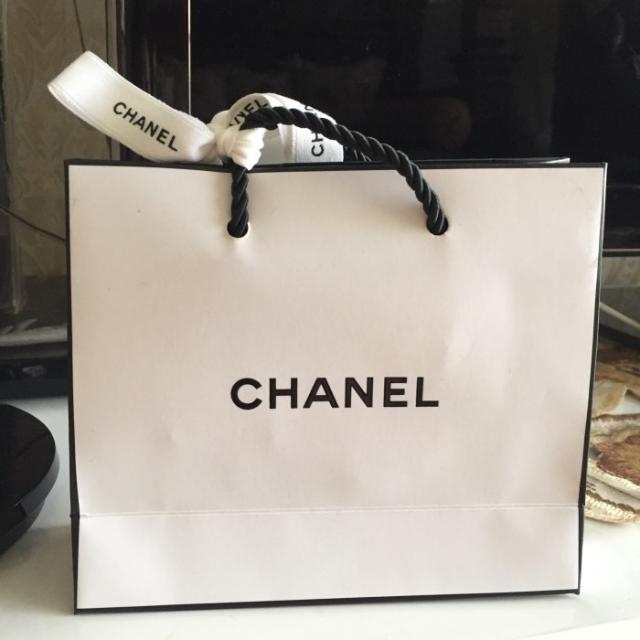Chanel: (220, 360, 446, 428), (94, 82, 186, 154)
